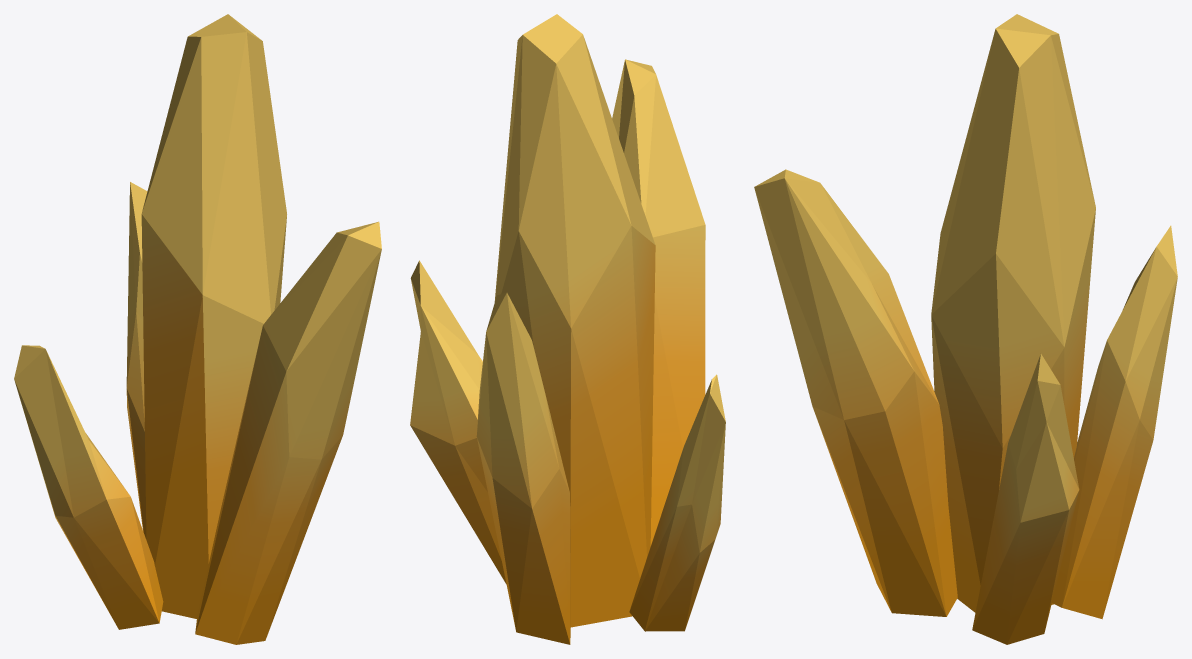
File: gold-crystal2.fbx
The picture shows the model from 3 angles, left to right: view 1: azimuth 30°, elevation 25°; view 2: azimuth 150°, elevation 25°; view 3: azimuth 270°, elevation 25°; orthographic projection. The views are drawn at different scales.
Visible parts, largest first — view 1: goldcrystal3; view 2: goldcrystal3; view 3: goldcrystal3.
Boxes of the visible parts, bbox=[...] form: goldcrystal3: bbox=[14, 14, 381, 644]; goldcrystal3: bbox=[410, 14, 725, 644]; goldcrystal3: bbox=[754, 14, 1177, 644].
Size of the model in its own units: 0.7349 by 1.25 by 0.7916.
